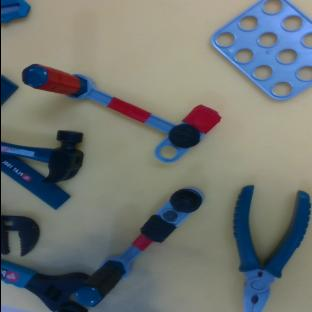non_pass: (69, 179, 206, 312)
pass: (8, 60, 221, 173)
